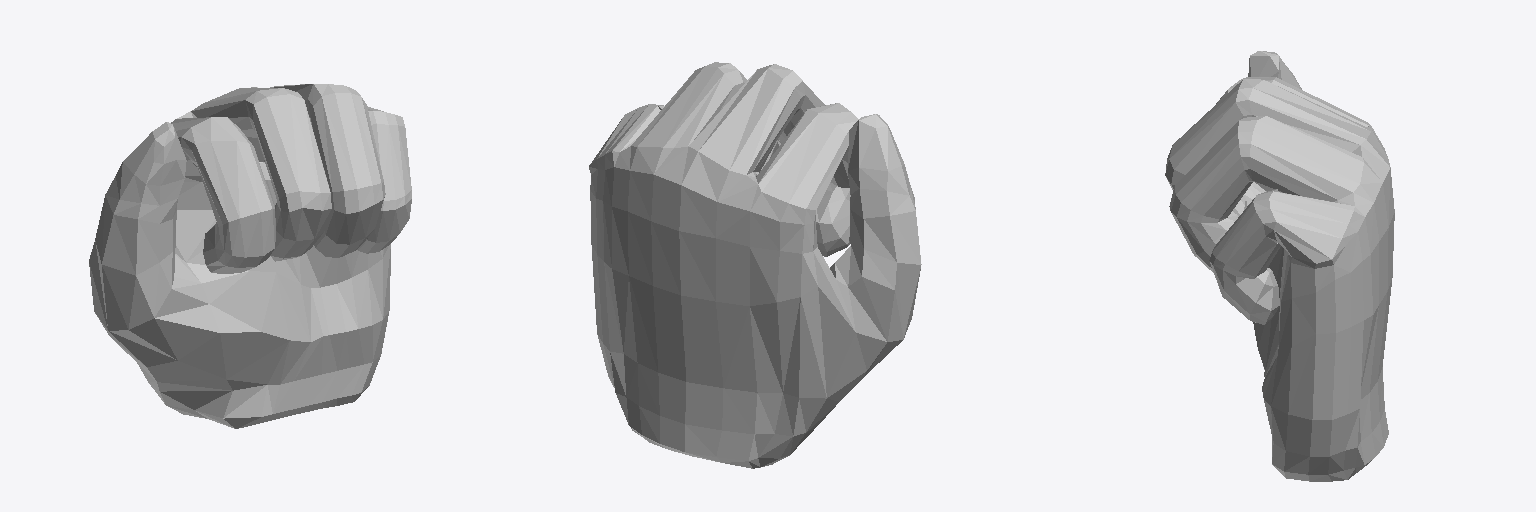
The model's file is mao_a.obj.
The picture shows the model from 3 angles: view 1: azimuth 30°, elevation 25°; view 2: azimuth 150°, elevation 25°; view 3: azimuth 270°, elevation 25°; orthographic projection.
Parts seen in each view (by area): view 1: objBox02; view 2: objBox02; view 3: objBox02.
Part boxes in pixels (x1,y1,x2,y2): objBox02: (89, 84, 411, 428); objBox02: (589, 62, 921, 468); objBox02: (1165, 51, 1394, 481).
Size of the model in its own units: 151 by 164 by 97.66.